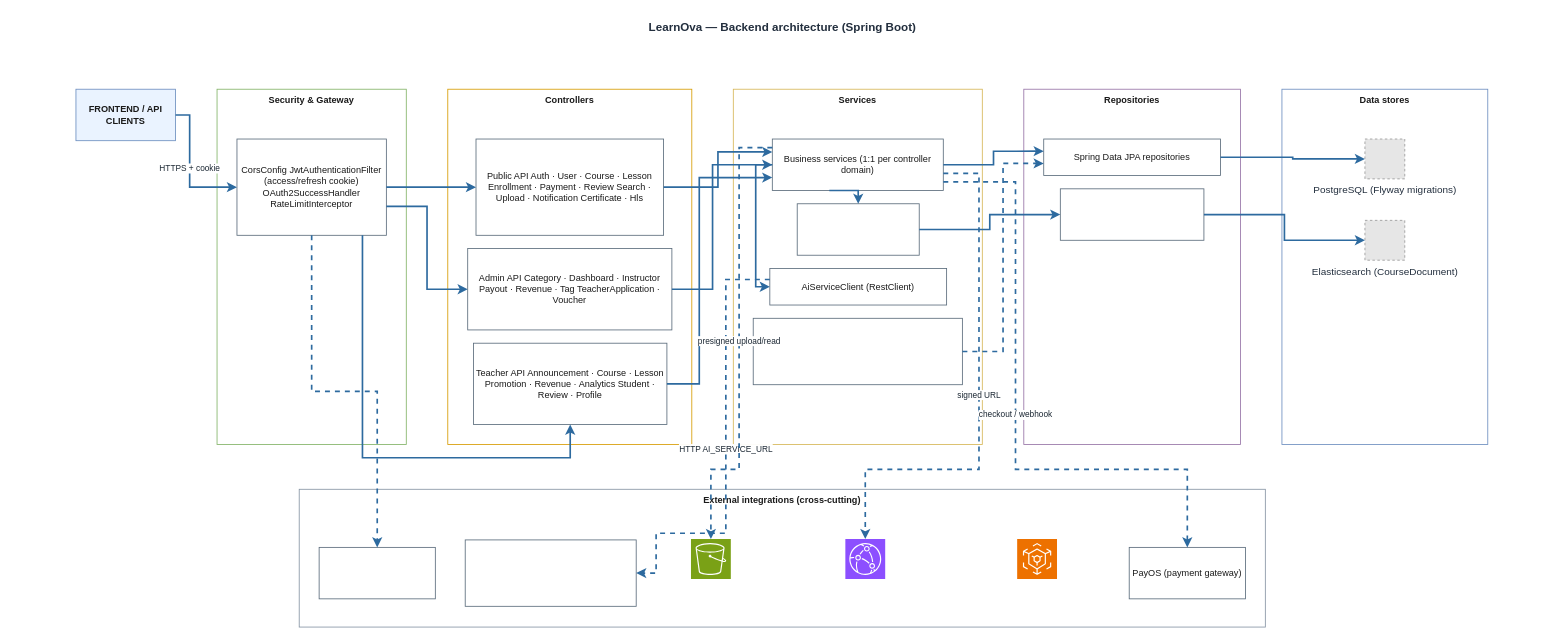
The diagram is 1563 pixels wide and 642 high, and some of its shapes have lost their labels. Grey dashed boxes stand in for pictures. The centre of each missing label's shape, as x and y in pixels:
ai-service (FastAPI) /summarize · /generate-quiz -> Gemini API: the point at 550,572
CloudFront (signed URLs): the point at 865,558
CourseSearchRepository (Elasticsearch): the point at 1131,214
Google / Facebook OAuth2 providers: the point at 376,573
MediaConvert (HLS): the point at 1036,558
S3 (storage): the point at 710,558
Scheduler jobs CleanupRefreshToken HlsJobStatus · NotificationCleanup: the point at 857,351
SearchService / CourseIndexService: the point at 857,229
